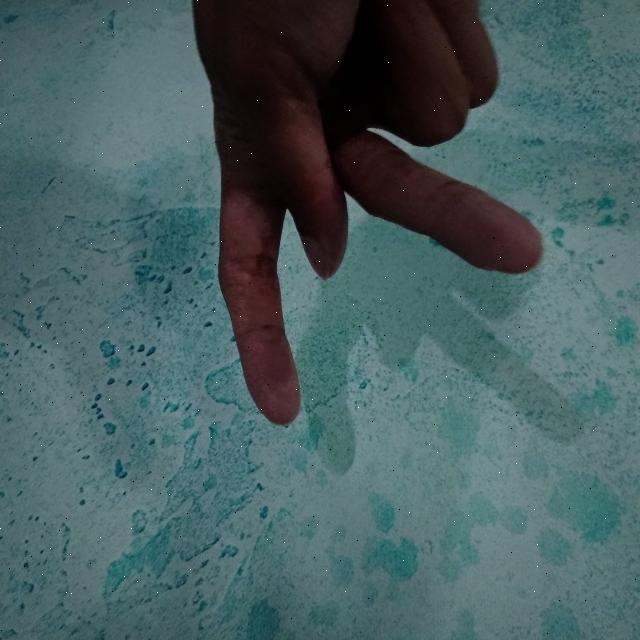P: (183, 0, 550, 433)
